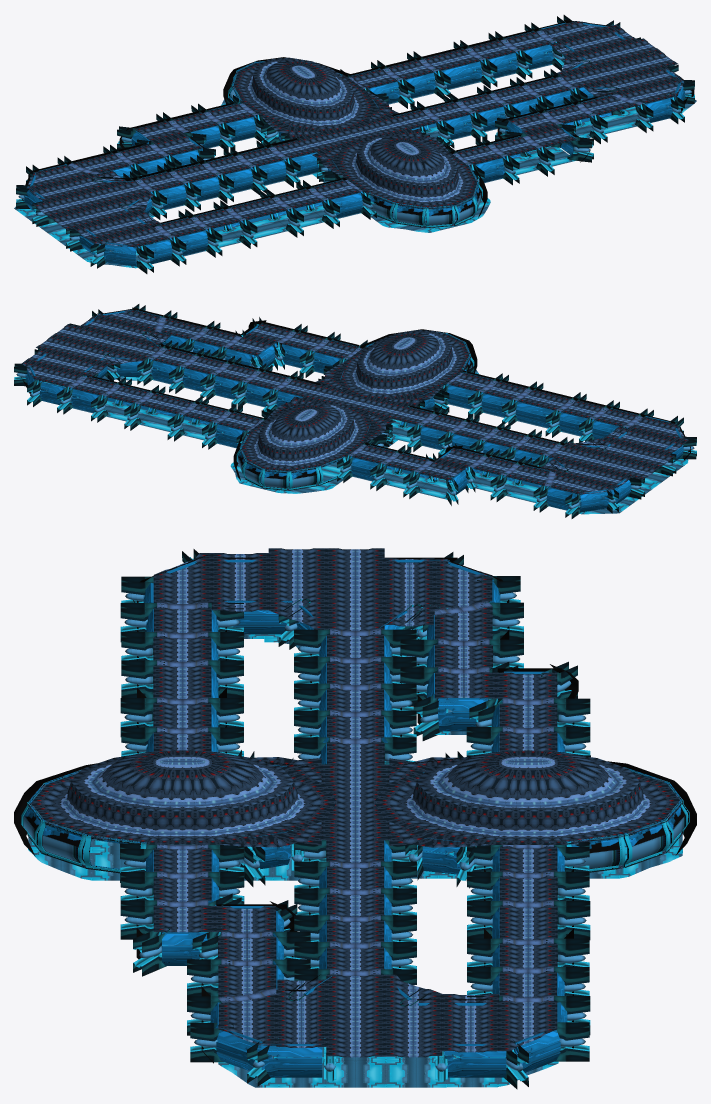
Rendered from SpaceshipHull.fbx.
The picture shows the model from 3 angles, top to bottom: view 1: azimuth 30°, elevation 25°; view 2: azimuth 150°, elevation 25°; view 3: azimuth 270°, elevation 25°; orthographic projection. The views are drawn at different scales.
Visible parts, largest first — view 1: Level; view 2: Level; view 3: Level.
Boxes of the visible parts, x1,y1,x2,y2 form: Level: (14,15,696,273); Level: (14,304,696,518); Level: (14,548,696,1089).
Size of the model in its own units: 359 by 25.12 by 204.
1 material, 1 textured.
